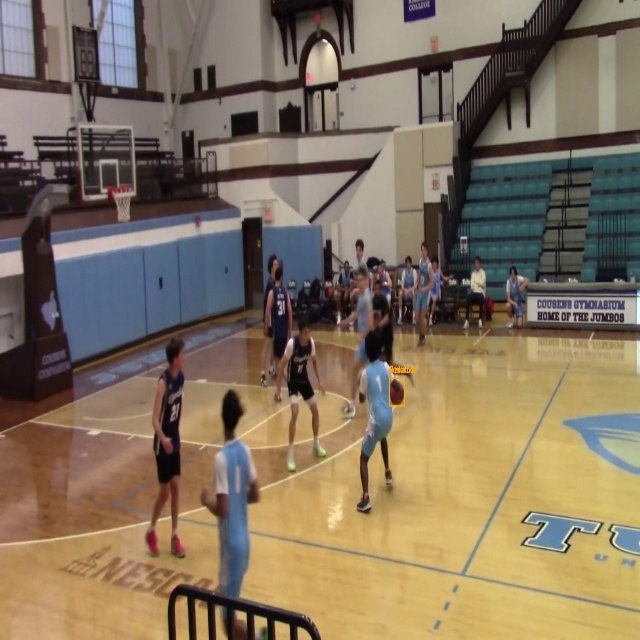Basketball: (389, 378, 404, 406)
